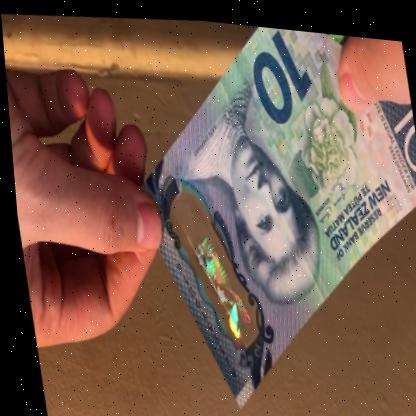10B: (180, 225, 254, 344)
